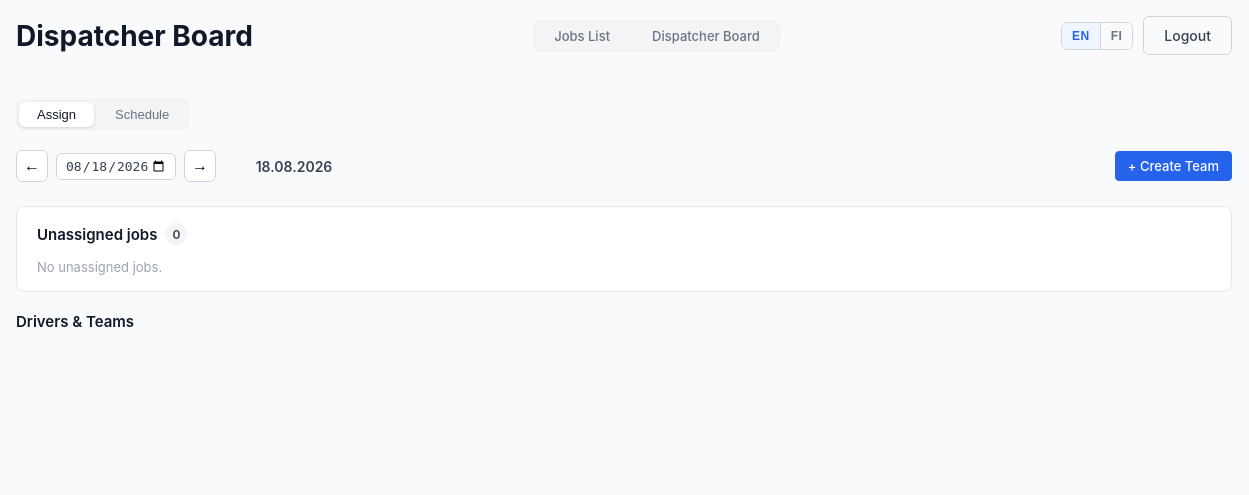
Test case: DispatcherBoard — Schedule view day header click › switches to Assign view with the clicked day selected
Step 1. Click the button "Schedule" → (142, 114), box [97,102,187,127]
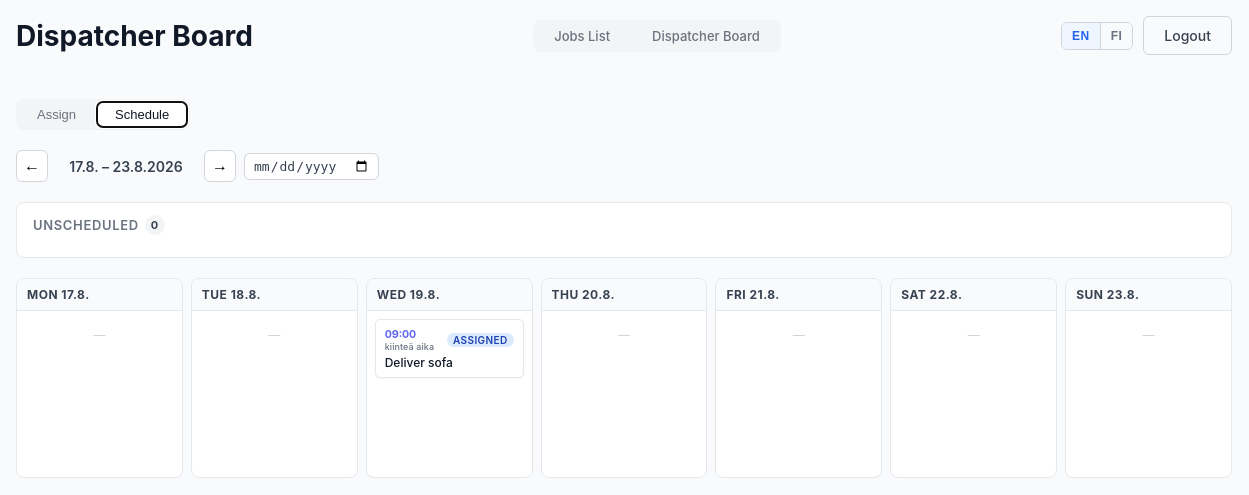
Result: the button named "Next week" is shown at [204,150,236,182]
Step 2. Click the button "Wed 19.8." → (449, 295), box [367,279,532,311]
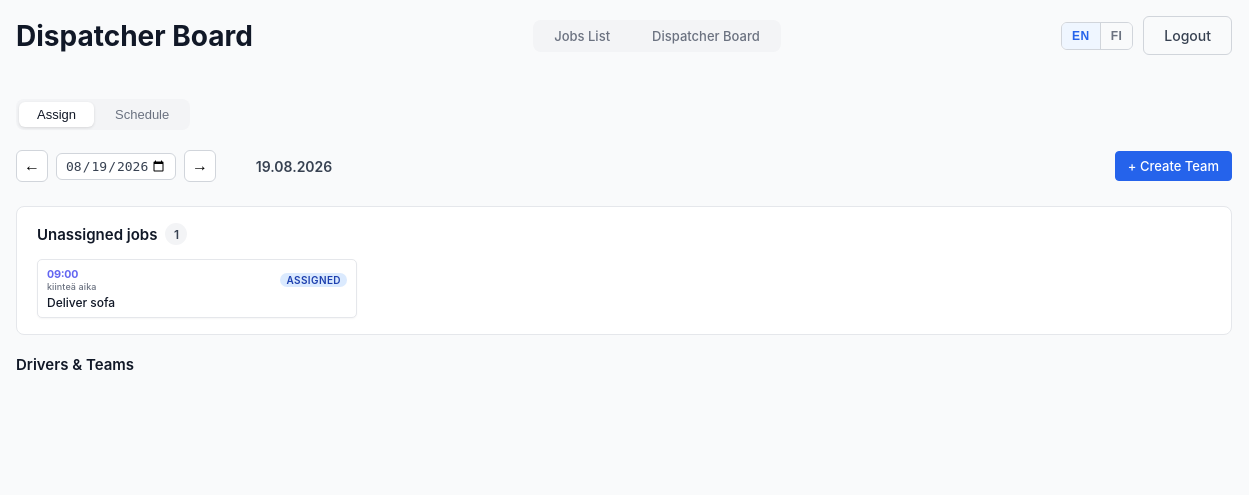
Result: the button "+ Create Team" is shown at [1115,151,1232,181]
